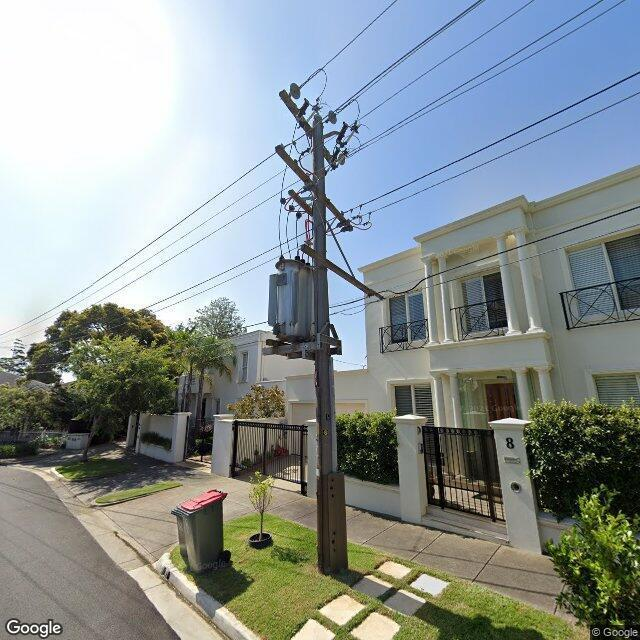crossarm: (275, 145, 344, 221), (279, 89, 337, 168), (300, 244, 374, 296), (288, 190, 313, 217)
timber-pole: (313, 113, 347, 572)
transformer: (268, 259, 316, 343)
